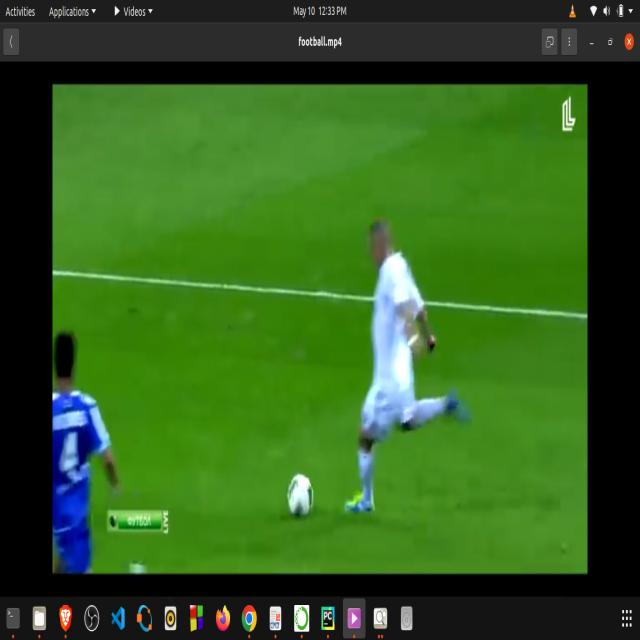ball: (278, 454, 320, 535)
player: (337, 192, 486, 530), (48, 308, 120, 572)
